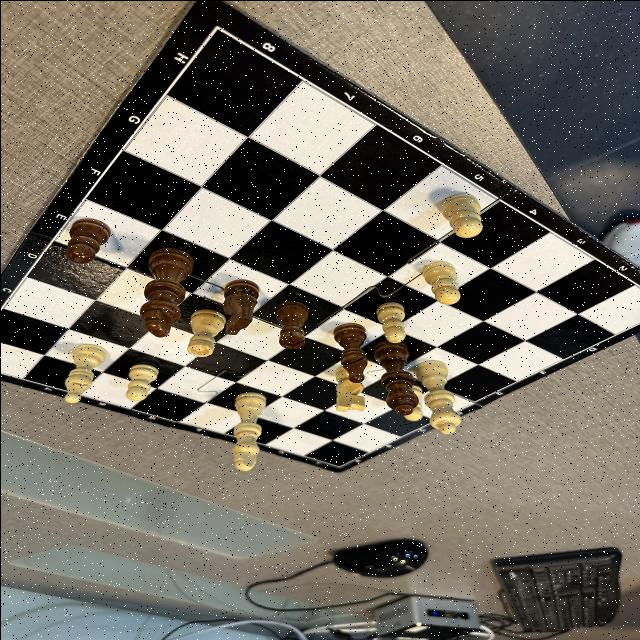Black-Bishop: (332, 322, 366, 382)
Black-King: (138, 246, 192, 336)
Black-Knight: (223, 280, 257, 334)
Black-Pawn: (64, 218, 110, 264)
Black-Queen: (372, 340, 418, 414)
Black-Rook: (278, 300, 308, 349)
White-Bishop: (64, 343, 105, 403)
White-King: (232, 392, 266, 469)
White-Knight: (334, 365, 364, 411)
White-Pawn: (439, 193, 482, 237), (422, 260, 459, 304), (375, 301, 405, 342), (125, 363, 158, 400), (404, 383, 422, 421)
White-Queen: (415, 360, 459, 433)
White-Rook: (187, 308, 225, 356)
